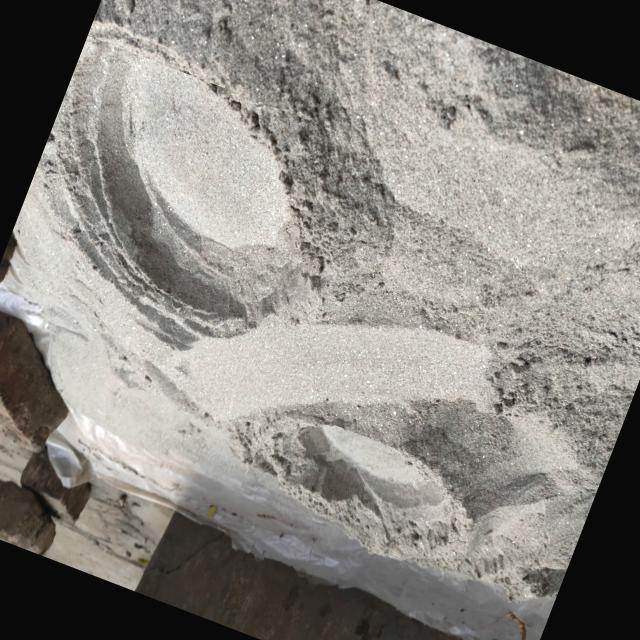C20: (37, 34, 313, 344), (254, 423, 456, 555)
